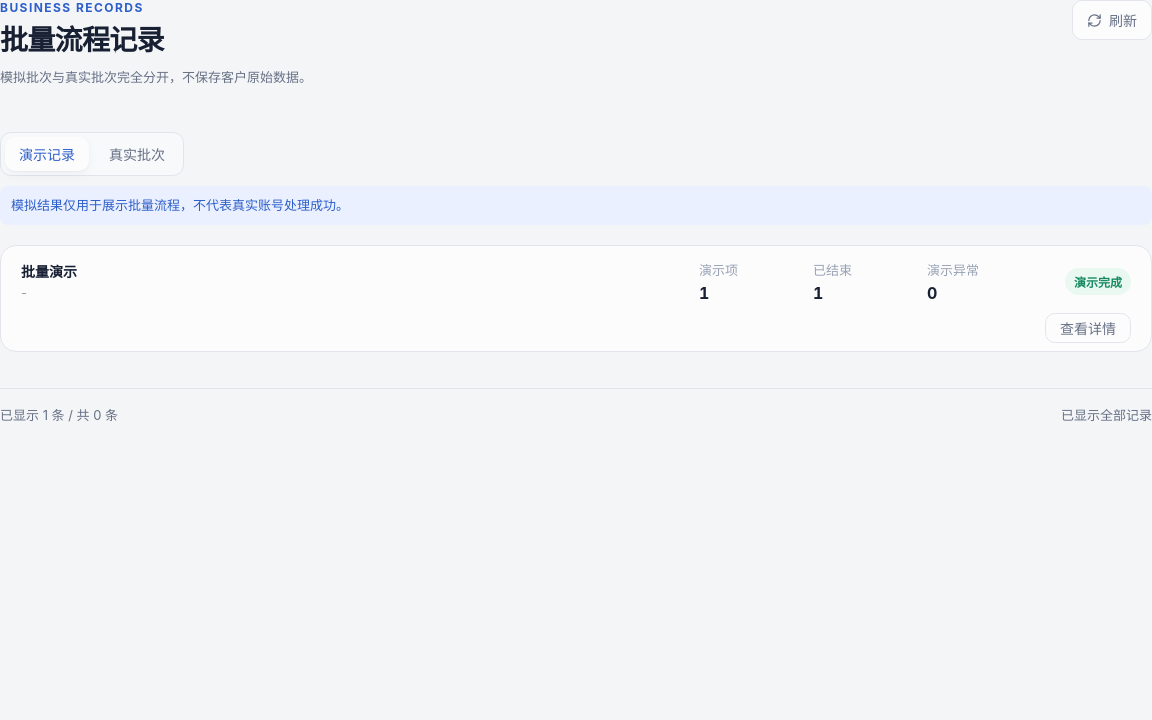
Test: business record request ordering › retries failed batch details without discarding the history list
Click the button with class "detail-link" at (1088, 328), box [1045,313,1131,343]
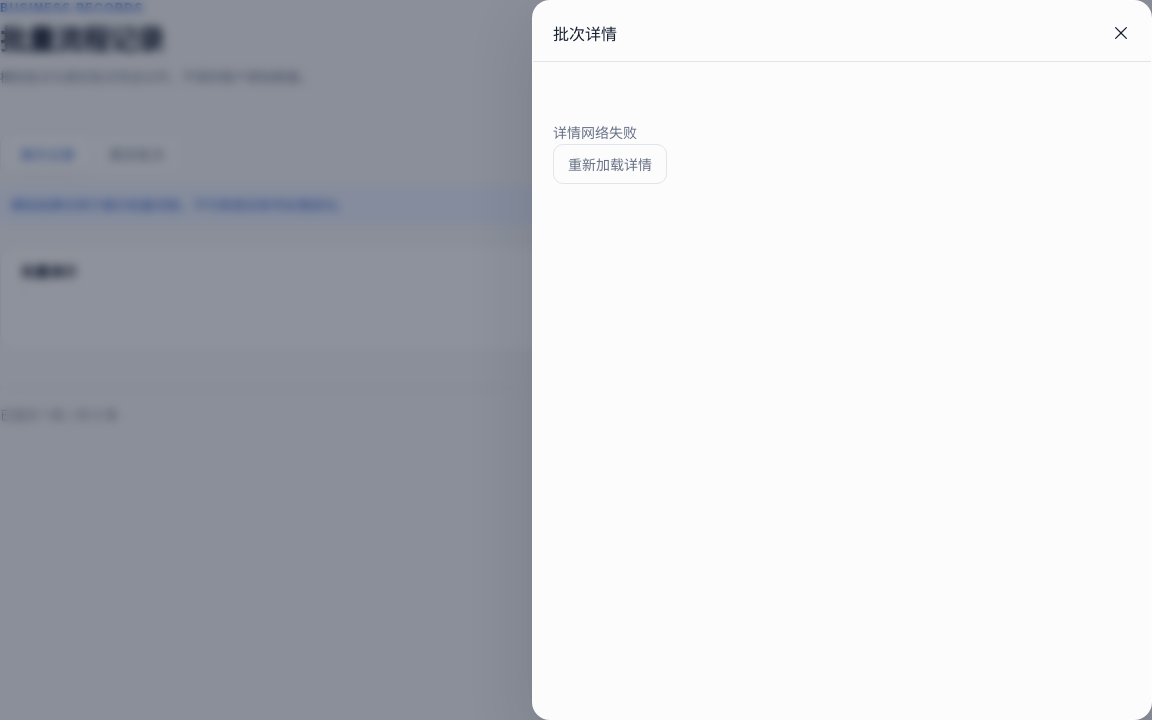
Expected: the message "详情网络失败 重新加载详情" is shown, [553,124,667,184]
Click the button "重新加载详情" at (610, 164), box [553,144,667,184]
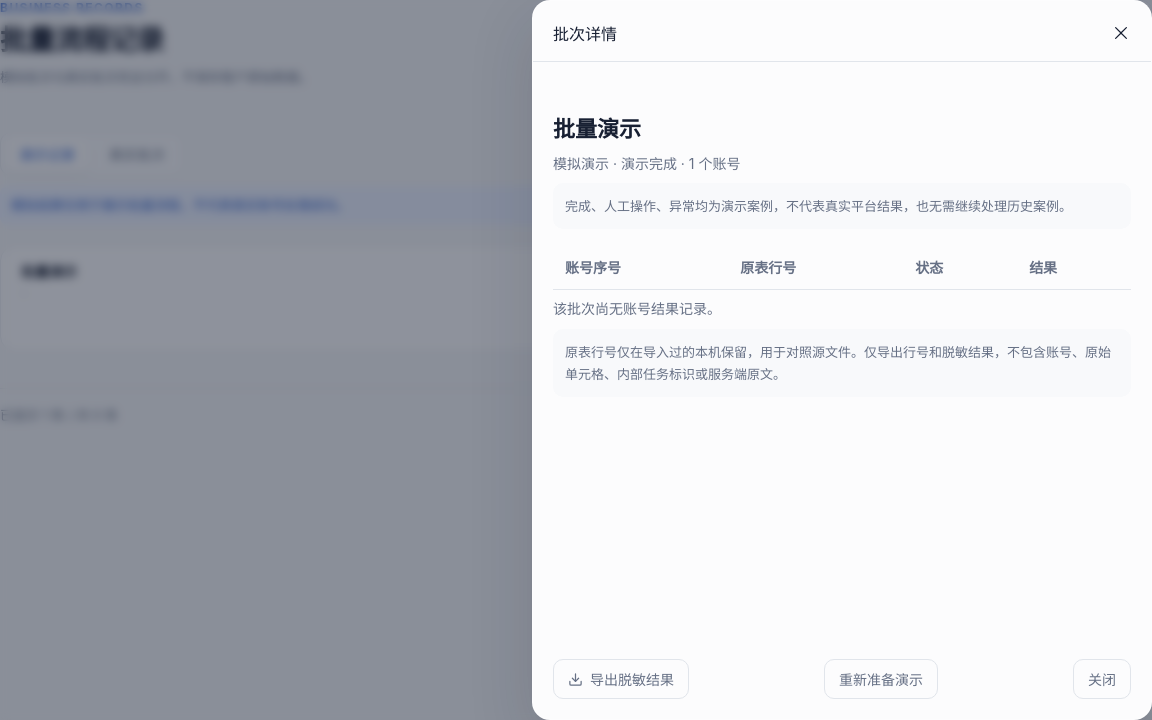
Expected: the dialog shows "该批次尚无账号结果记录", [553,300,721,317]
